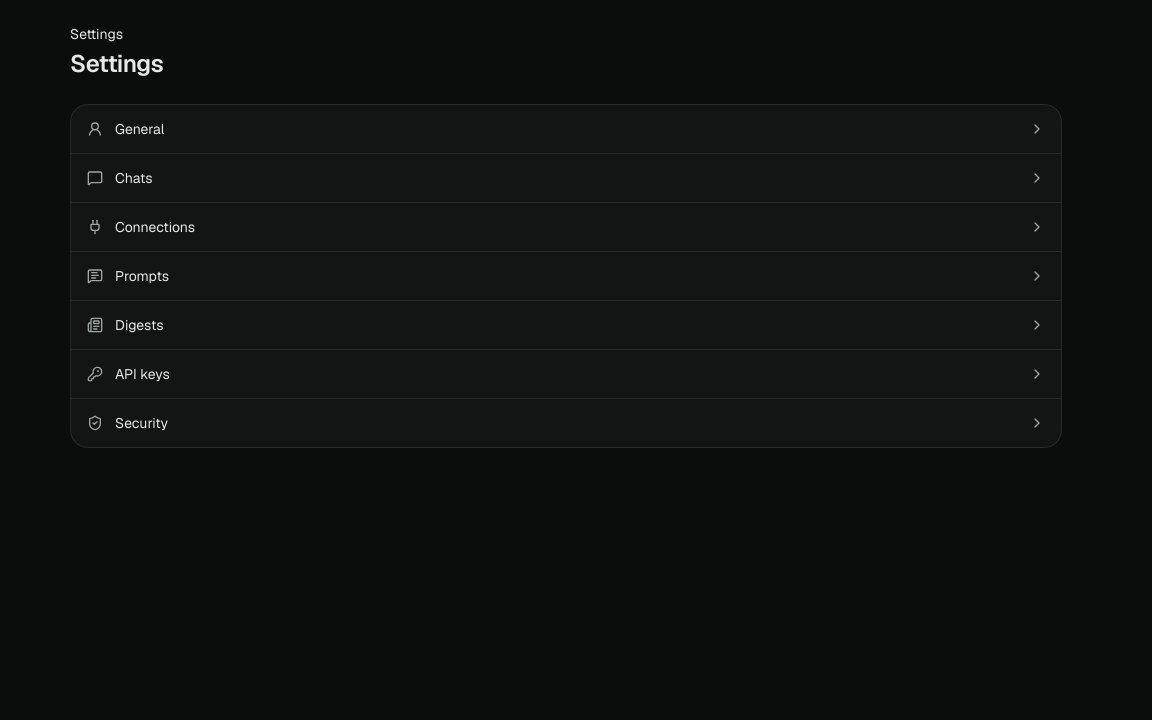
the Settings screen › is a list of the sections on a phone, each a page with its way back
Click the link "Prompts" at (142, 276), box left=87, top=267, right=1045, bottom=285
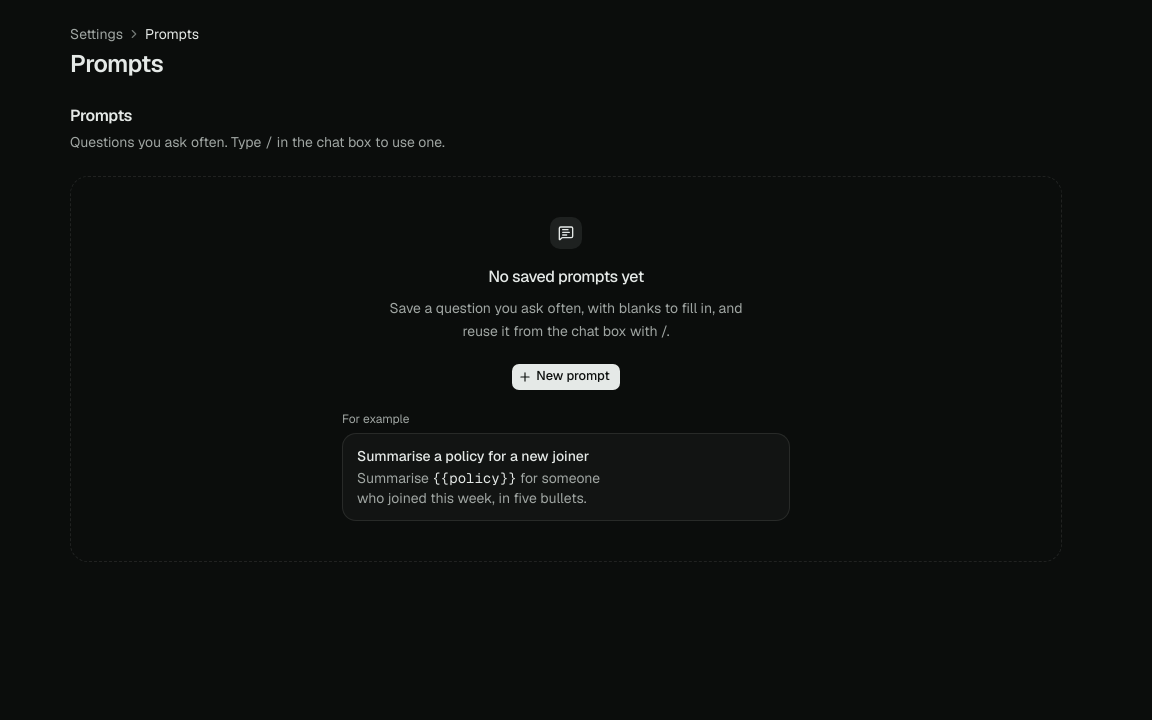
Check: the heading "Prompts" below "Settings" is shown, box left=70, top=48, right=163, bottom=79
Check: the heading "No saved prompts yet" is shown, box left=488, top=265, right=644, bottom=289
